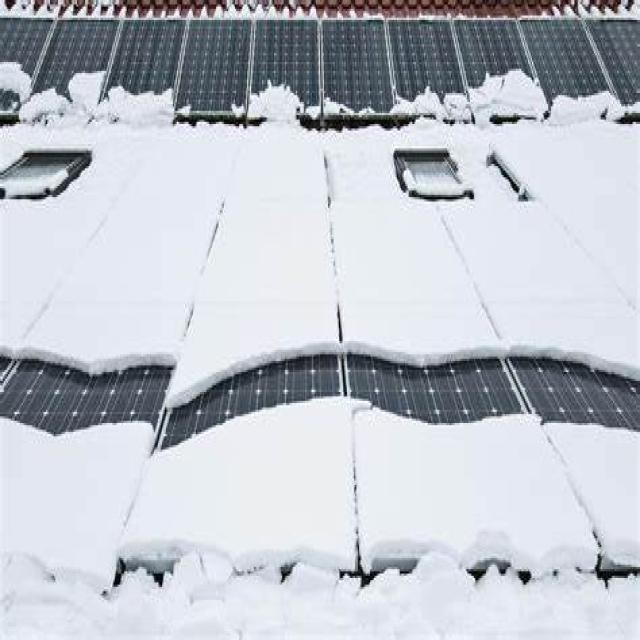snow covered: (26, 120, 637, 559)
